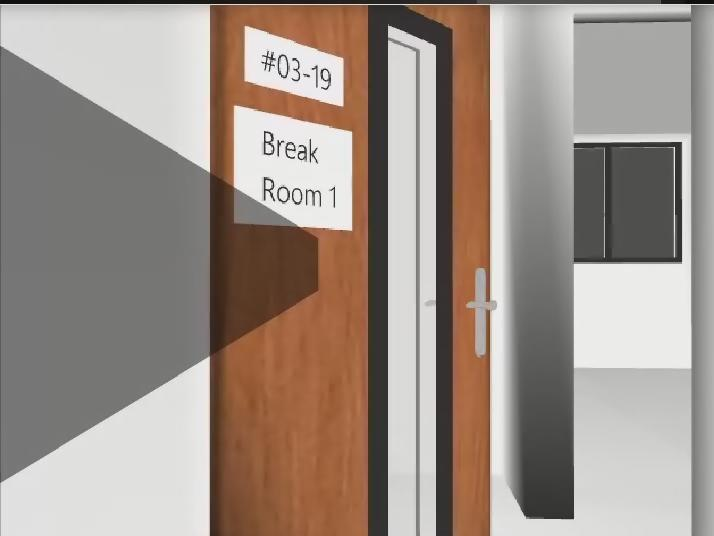door: (211, 5, 497, 536)
